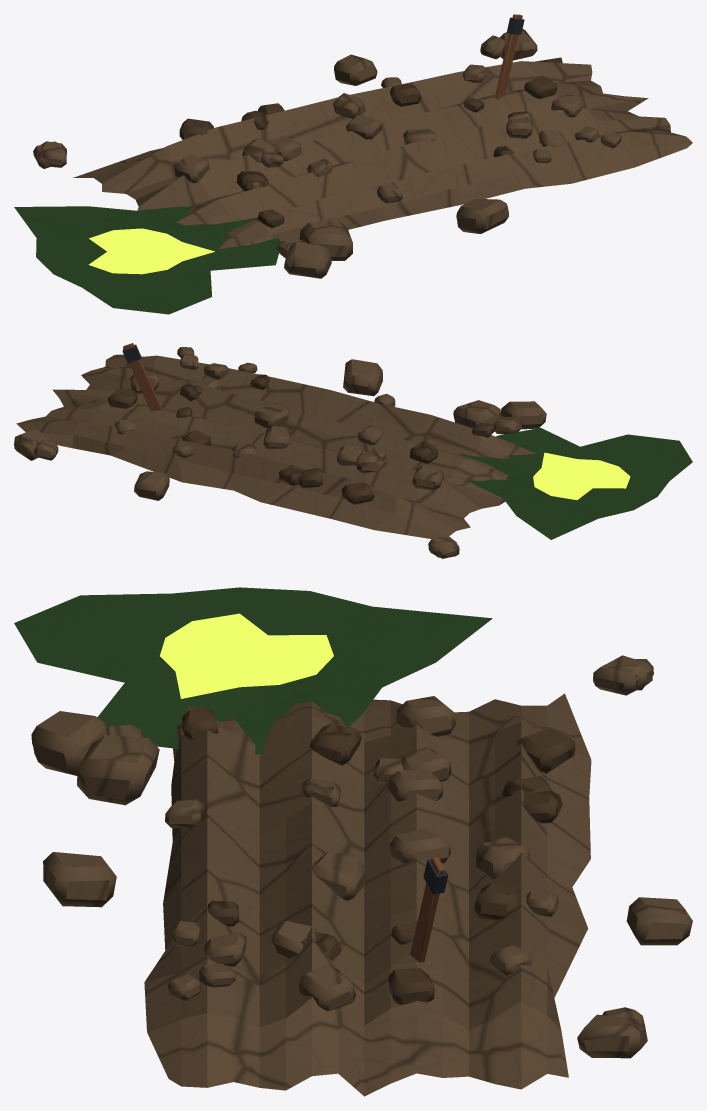
The model's file is thresher_tilled_scar.glb.
The picture shows the model from 3 angles, top to bottom: view 1: azimuth 30°, elevation 25°; view 2: azimuth 150°, elevation 25°; view 3: azimuth 270°, elevation 25°; orthographic projection. The views are drawn at different scales.
Visible parts, largest first — view 1: thresher_tilled_scar; view 2: thresher_tilled_scar; view 3: thresher_tilled_scar.
Boxes of the visible parts, left/top/right/bottom form: thresher_tilled_scar: left=14, top=14, right=692, bottom=314; thresher_tilled_scar: left=14, top=343, right=692, bottom=558; thresher_tilled_scar: left=14, top=587, right=692, bottom=1096.
Size of the model in its own units: 4.73 by 0.8995 by 2.73.
Materials: 6 (5 with a texture image).
